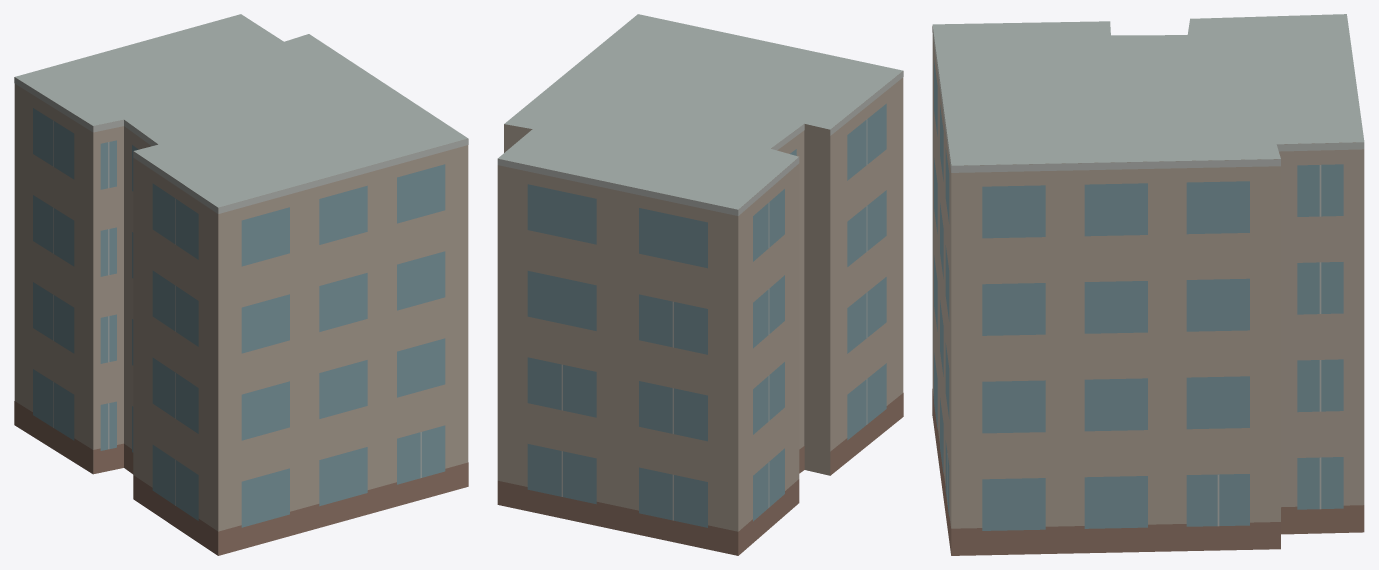
The model's file is survey-upis-32706474.glb.
The picture shows the model from 3 angles, left to right: view 1: azimuth 30°, elevation 25°; view 2: azimuth 150°, elevation 25°; view 3: azimuth 270°, elevation 25°; orthographic projection. The views are drawn at different scales.
Visible parts, largest first — view 1: survey-upis-32706474.tmp; view 2: survey-upis-32706474.tmp; view 3: survey-upis-32706474.tmp.
Boxes of the visible parts, bbox=[...] form: survey-upis-32706474.tmp: bbox=[14, 14, 468, 555]; survey-upis-32706474.tmp: bbox=[497, 14, 903, 555]; survey-upis-32706474.tmp: bbox=[932, 14, 1364, 555].
Bounding box in the file's own units: 10.93 × 13.1 × 13.16.
